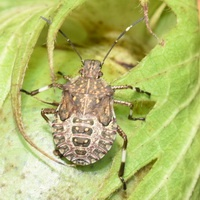insect: (42, 60, 116, 164), (62, 6, 135, 57), (25, 97, 48, 145)
